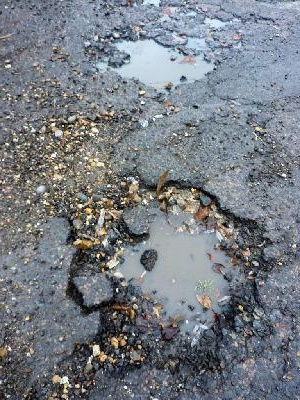pothole: (54, 180, 276, 385), (84, 28, 222, 92)
